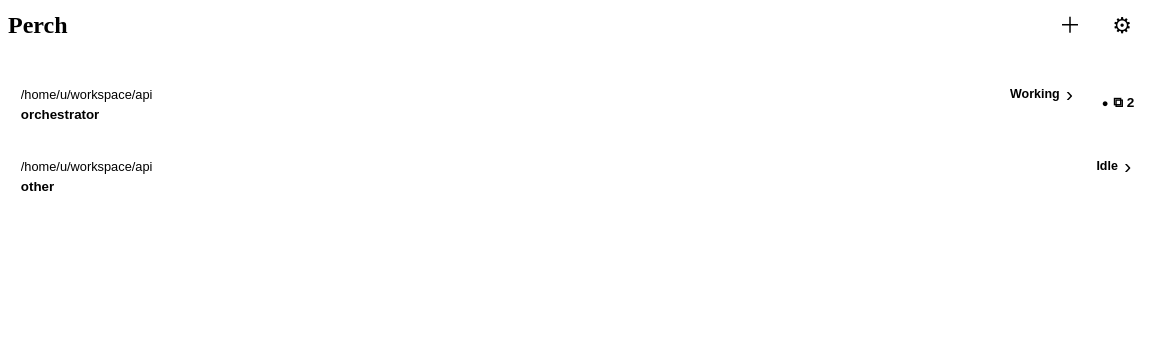
Scenario: WorkspaceList orchestrator nesting › expands the children indented under the parent without opening it
The width and height of the screenshot is (1152, 352).
Click the button named "show 2 child workspaces" at (1118, 103), box [1092,71,1144,135]
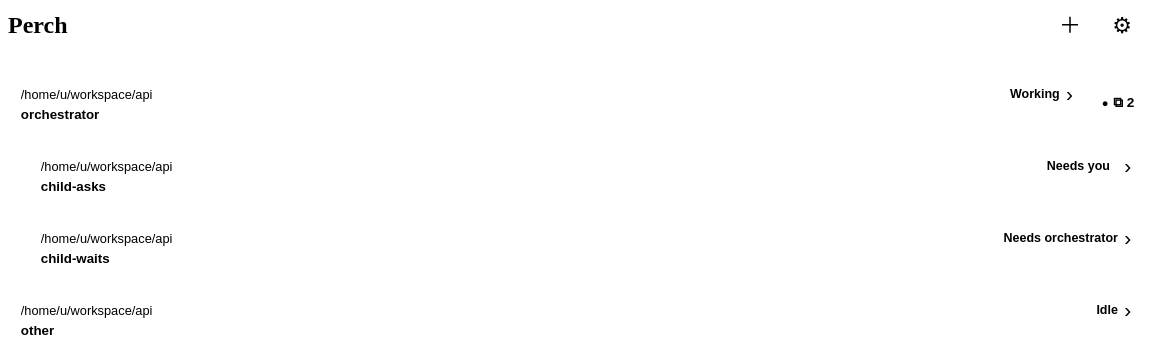
Click the button named "hide 2 child workspaces" at (1118, 103), box [1092,71,1144,135]
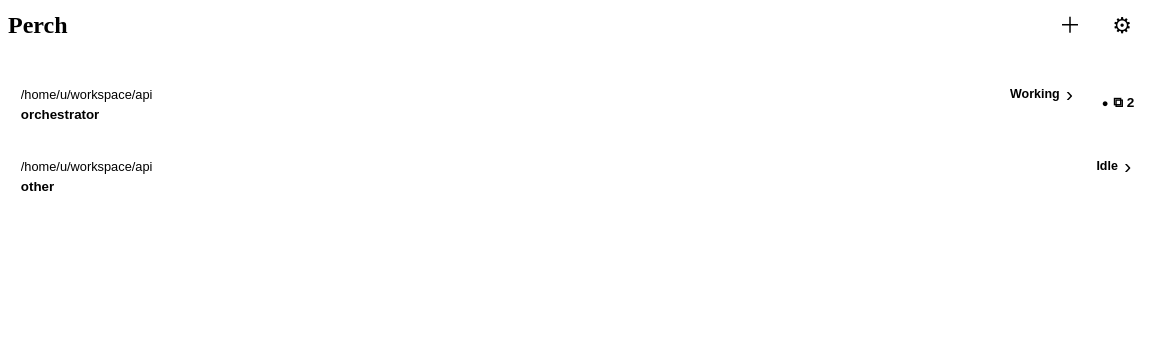
Check: the button "child-asks" is gone
